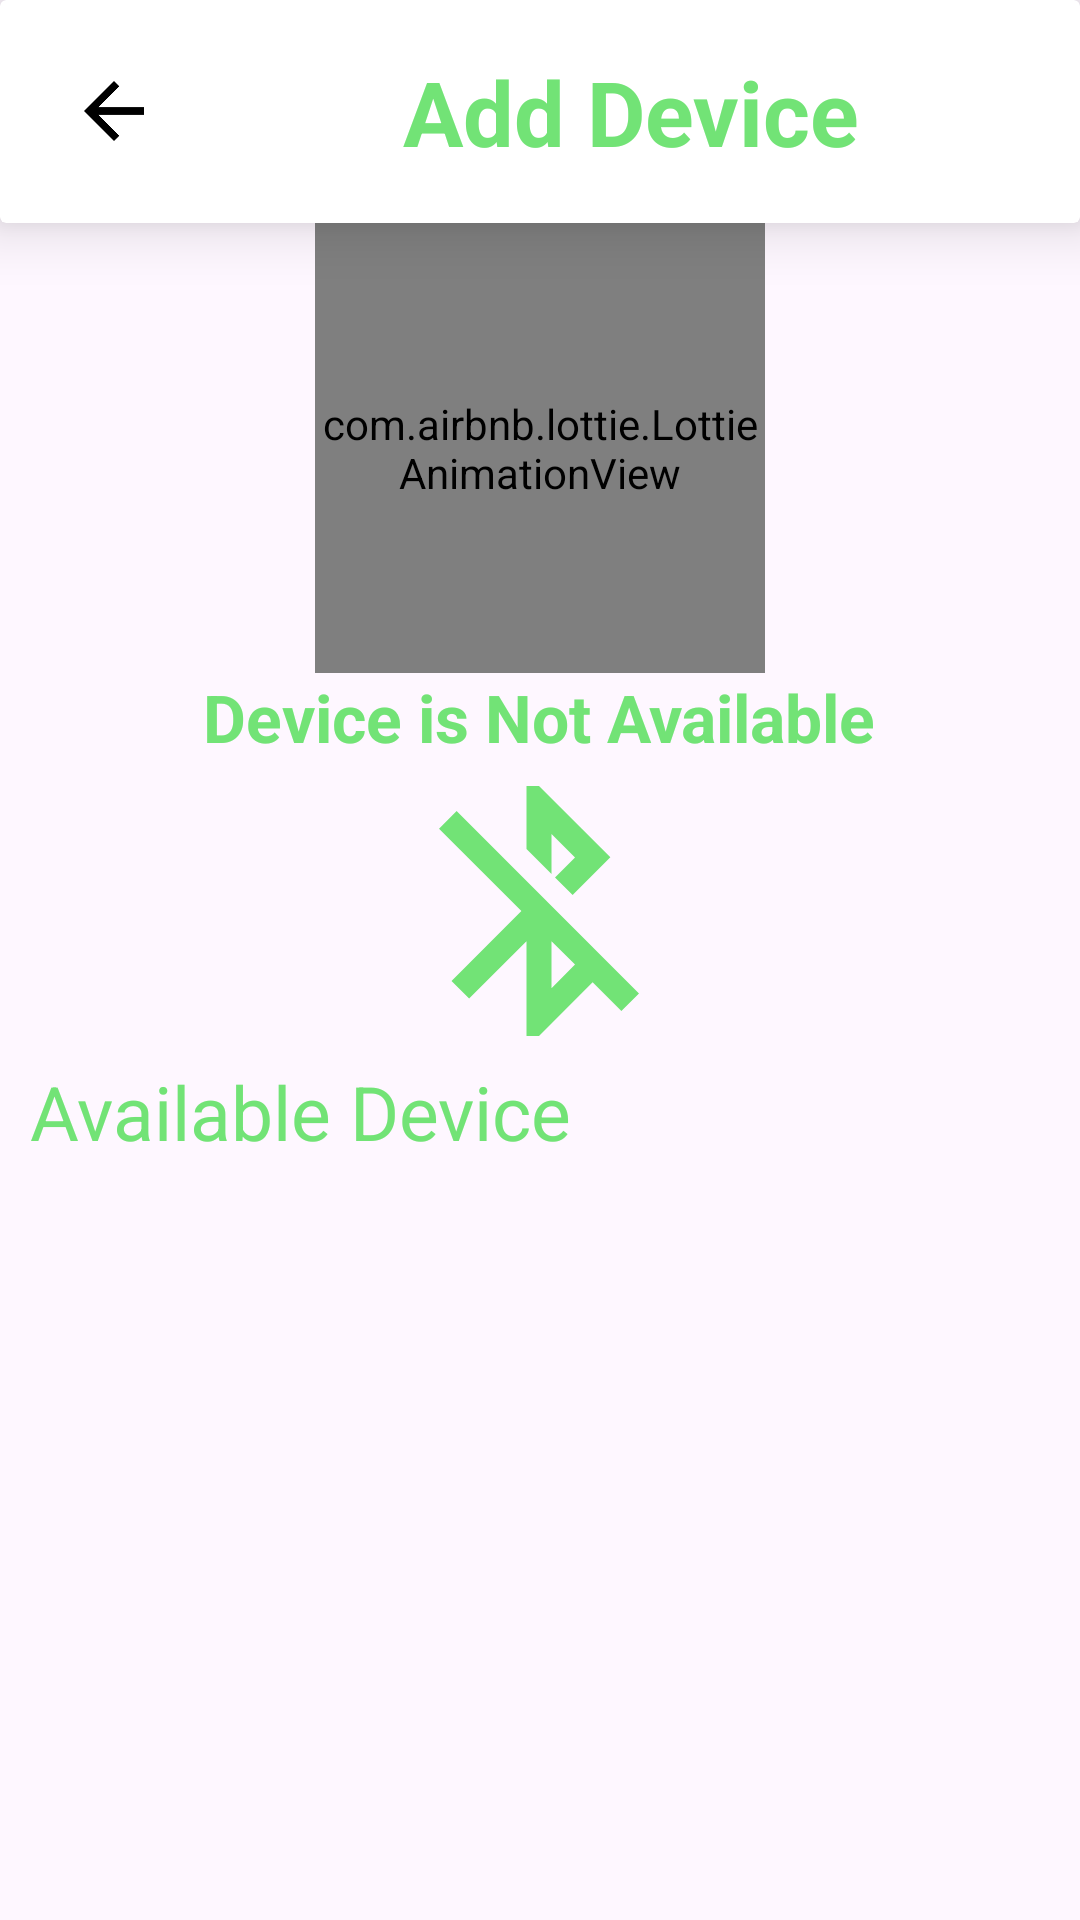

Point at icon controls on the screen. Image size 1080w x 1920h, points as (x=x, y=y).
arrow: (x=114, y=111)
